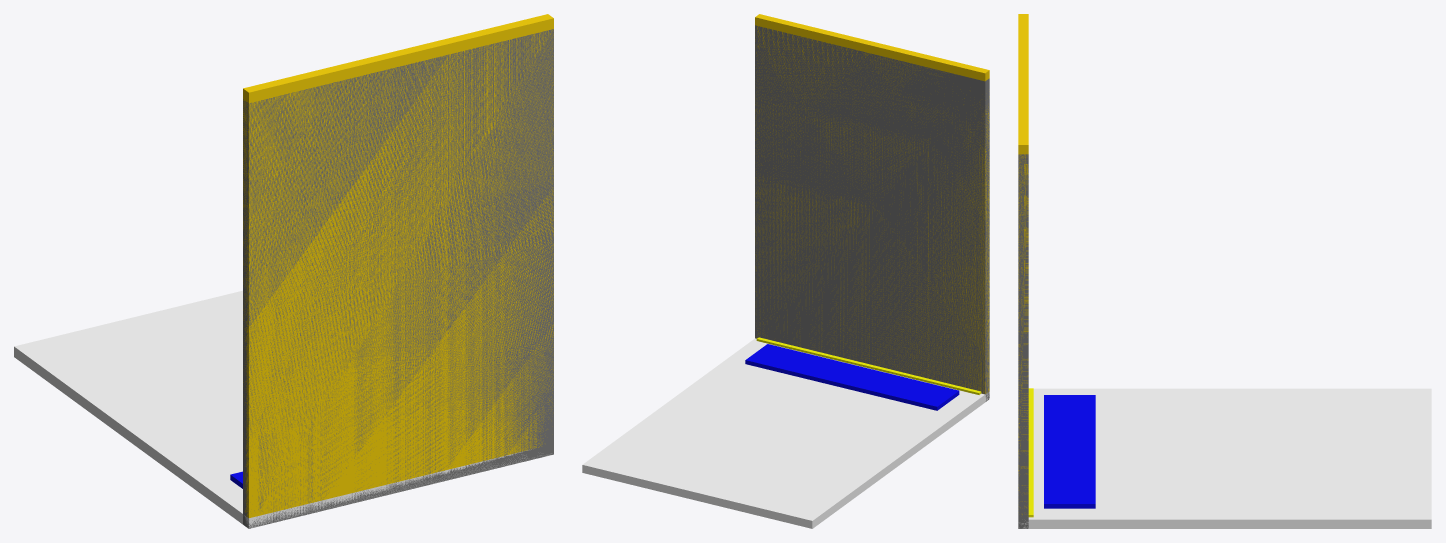
Rendered from Bản hiệu LED viền sáng mặt 60 x 80.obj.
3 views of the same model, side by side, from view 1: azimuth 30°, elevation 25°; view 2: azimuth 150°, elevation 25°; view 3: azimuth 270°, elevation 25° (orthographic). The views are drawn at different scales.
Visible parts, largest first — view 1: vien_trang_tri, khung_do, be_mat_bien; view 2: khung_do, be_mat_bien, vien_trang_tri, chu_noi_3d, den_led; view 3: be_mat_bien, chu_noi_3d, khung_do, vien_trang_tri, den_led.
Boxes of the visible parts, bbox=[...] form: vien_trang_tri: bbox=[243, 14, 553, 518]; khung_do: bbox=[243, 29, 553, 528]; be_mat_bien: bbox=[14, 290, 551, 528]; khung_do: bbox=[755, 25, 989, 401]; be_mat_bien: bbox=[582, 338, 989, 528]; vien_trang_tri: bbox=[755, 14, 989, 393]; chu_noi_3d: bbox=[745, 344, 959, 410]; den_led: bbox=[756, 337, 981, 394]; be_mat_bien: bbox=[1019, 388, 1431, 528]; chu_noi_3d: bbox=[1044, 395, 1095, 508]; khung_do: bbox=[1018, 154, 1028, 528]; vien_trang_tri: bbox=[1018, 14, 1028, 514]; den_led: bbox=[1028, 388, 1033, 517].
Bounding box in the file's own units: 0.6 × 0.82 × 0.8.
